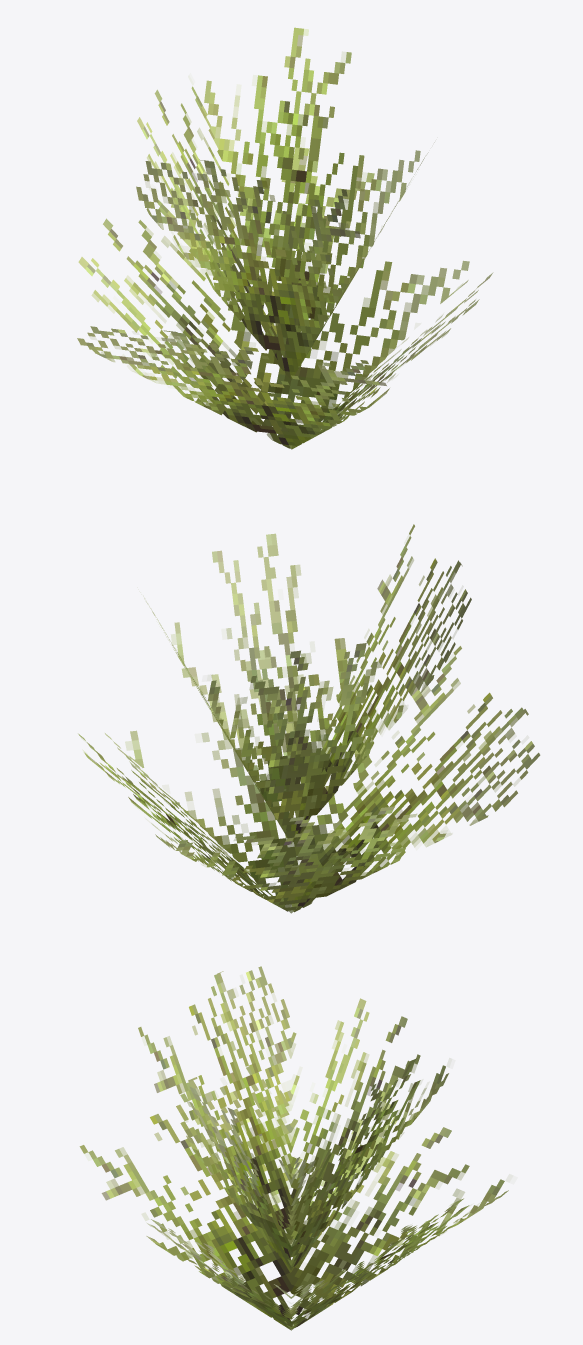
Rendered from plant-20.glb.
3 renders of one model, top to bottom at view 1: azimuth 30°, elevation 25°; view 2: azimuth 150°, elevation 25°; view 3: azimuth 270°, elevation 25°, orthographic. The views are drawn at different scales.
Parts seen in each view (by area): view 1: wrld_plant_bush_dry1; view 2: wrld_plant_bush_dry1; view 3: wrld_plant_bush_dry1.
Part boxes in pixels (x1,y1,x2,y2): wrld_plant_bush_dry1: [77, 27, 493, 449]; wrld_plant_bush_dry1: [78, 524, 540, 913]; wrld_plant_bush_dry1: [79, 966, 508, 1330].
Size of the model in its own units: 5.41 by 3.27 by 5.41.
Materials: 1 (1 with a texture image).
